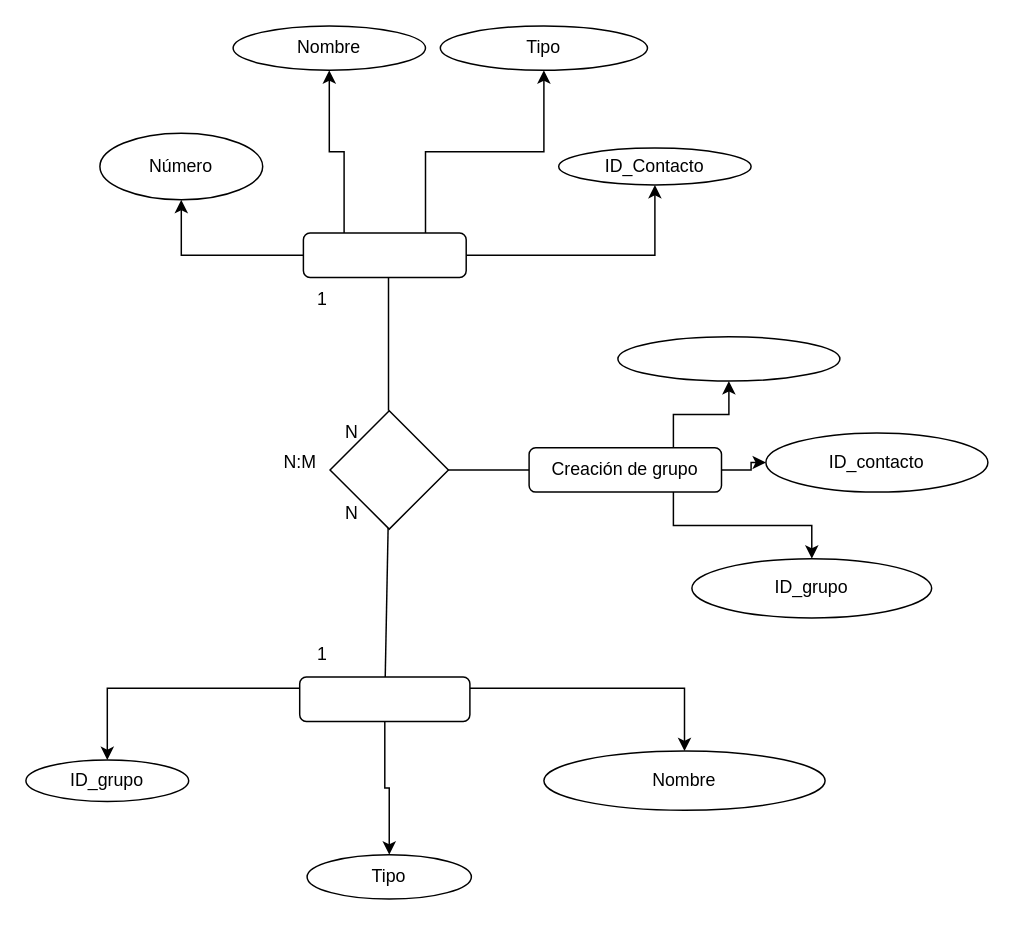
This 1014x925 diagram has some shape labels left out. The shapes that lost their labels are listed below. From the top down, each one's centre as x and y in pixels, then its label:
At (x=384, y=255): "Contacto".
At (x=728, y=358): "ID_CGrupo".
At (x=388, y=469): "Pertenece".
At (x=384, y=699): "Grupos".
